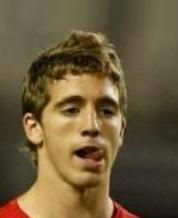face: (58, 95, 116, 168)
